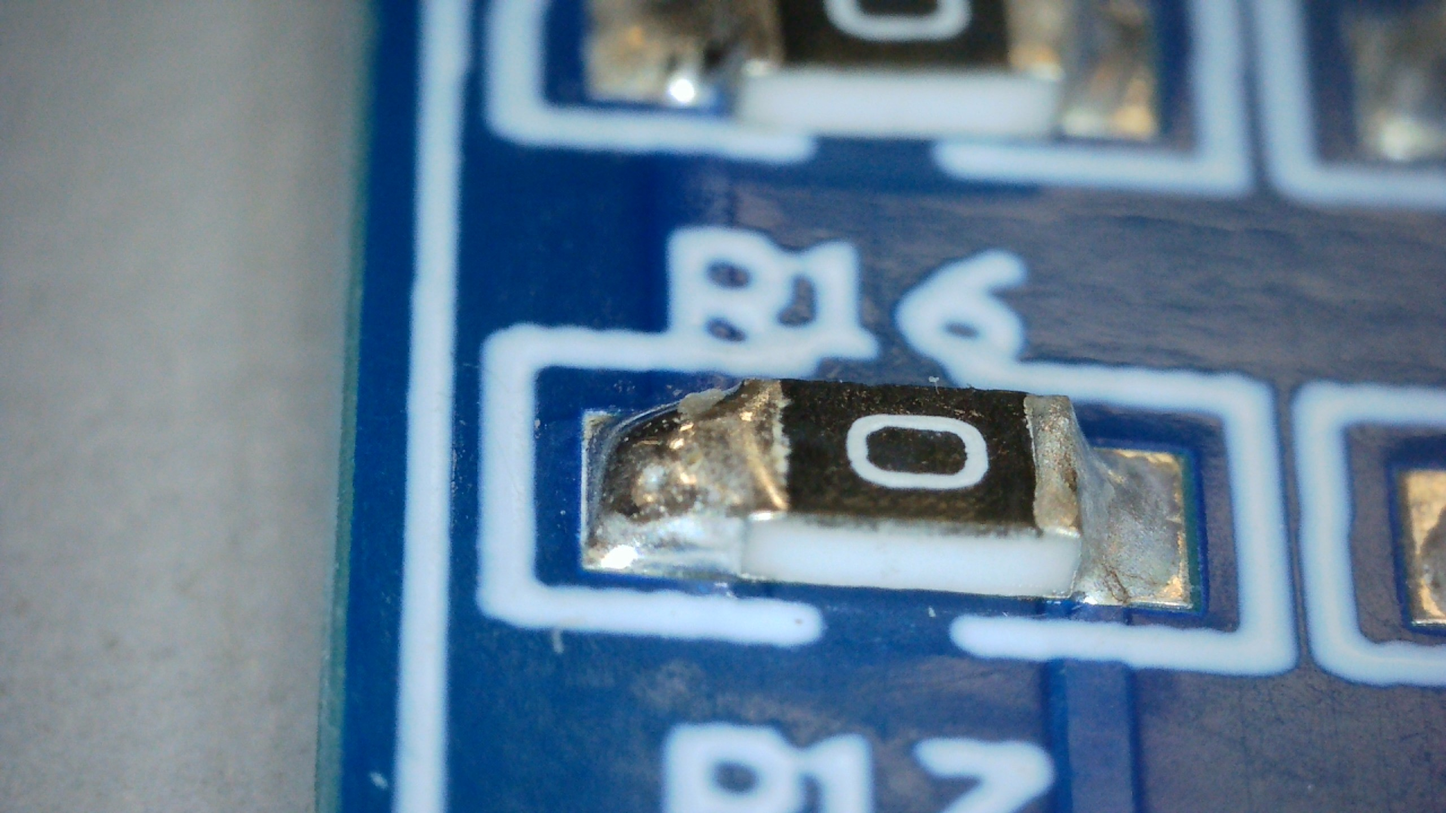NG: (590, 379, 785, 572), (1032, 394, 1160, 594)
